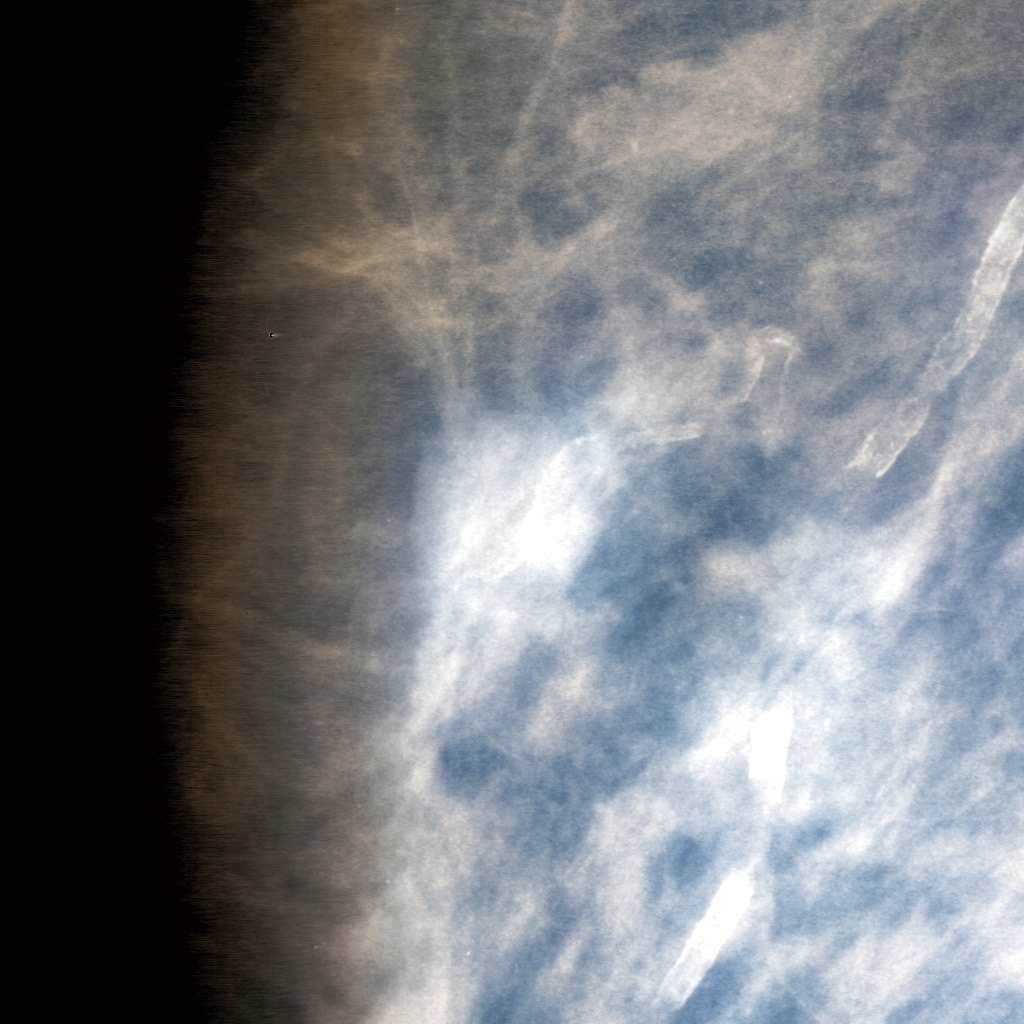tumor: (359, 361, 665, 663)
